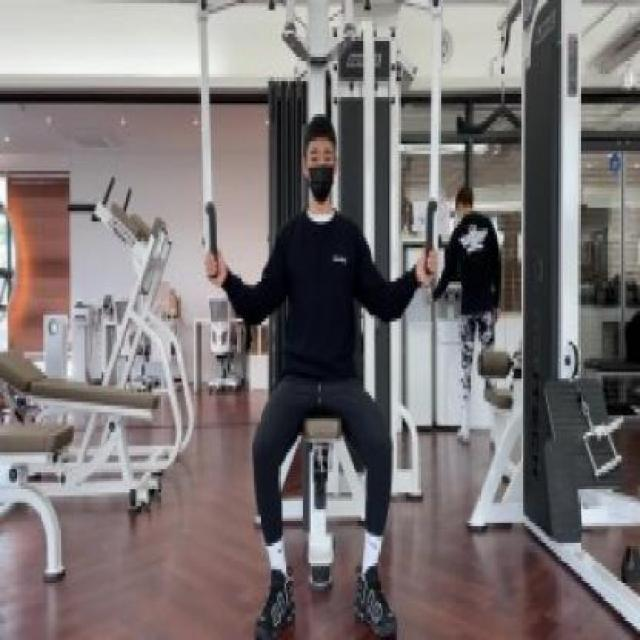chest fly machine: (168, 0, 463, 640)
